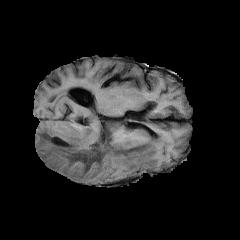glioma: (36, 112, 161, 175)
